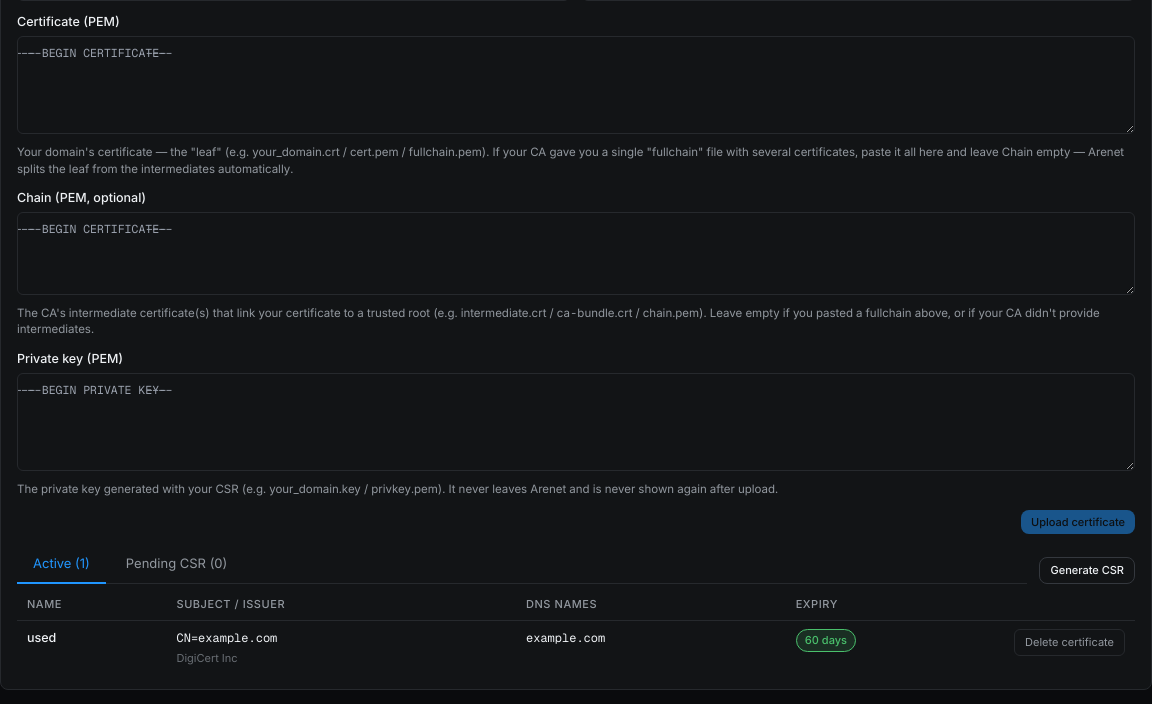
Test case: ExternalCertsPanel — delete dialog › opens the blocked dialog listing routes on a 409
The width and height of the screenshot is (1152, 704).
(page scrolled)
Click the button "Delete certificate". click: (1070, 643)
box: [1014, 629, 1125, 656]
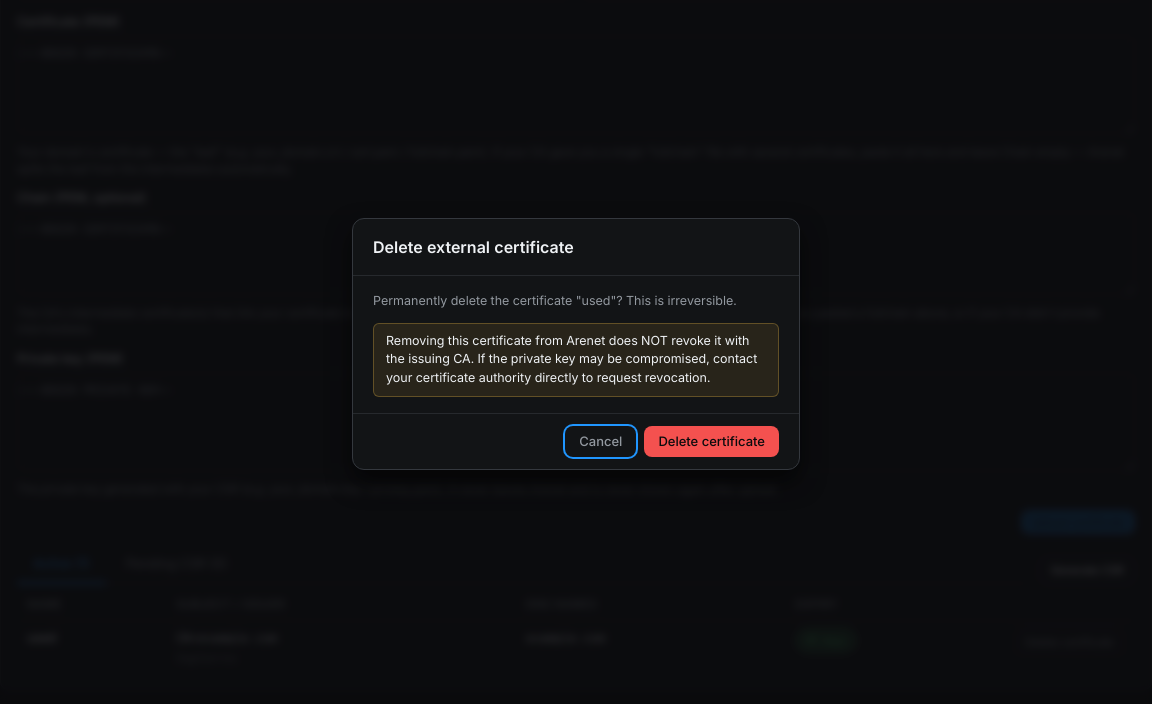
Click the button with test id "external-cert-delete-confirm". click: (712, 442)
box: [644, 426, 779, 457]
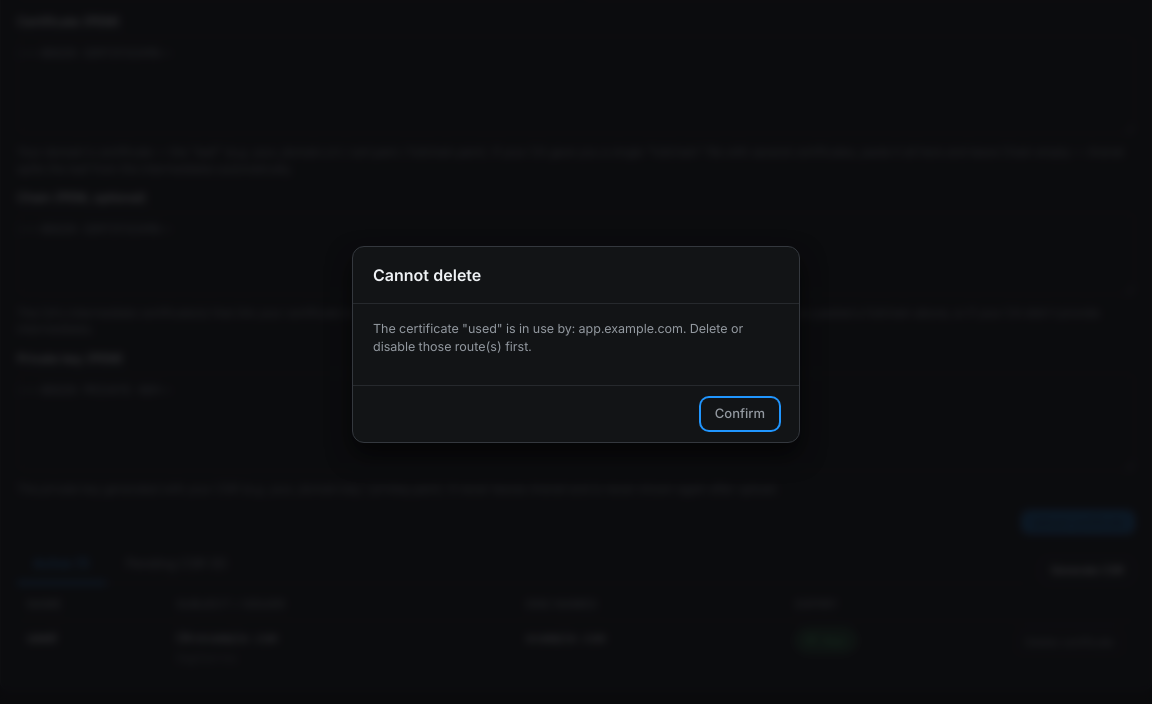
Check: the message with test id "external-cert-blocked-text" is shown, box [373, 320, 779, 357]
